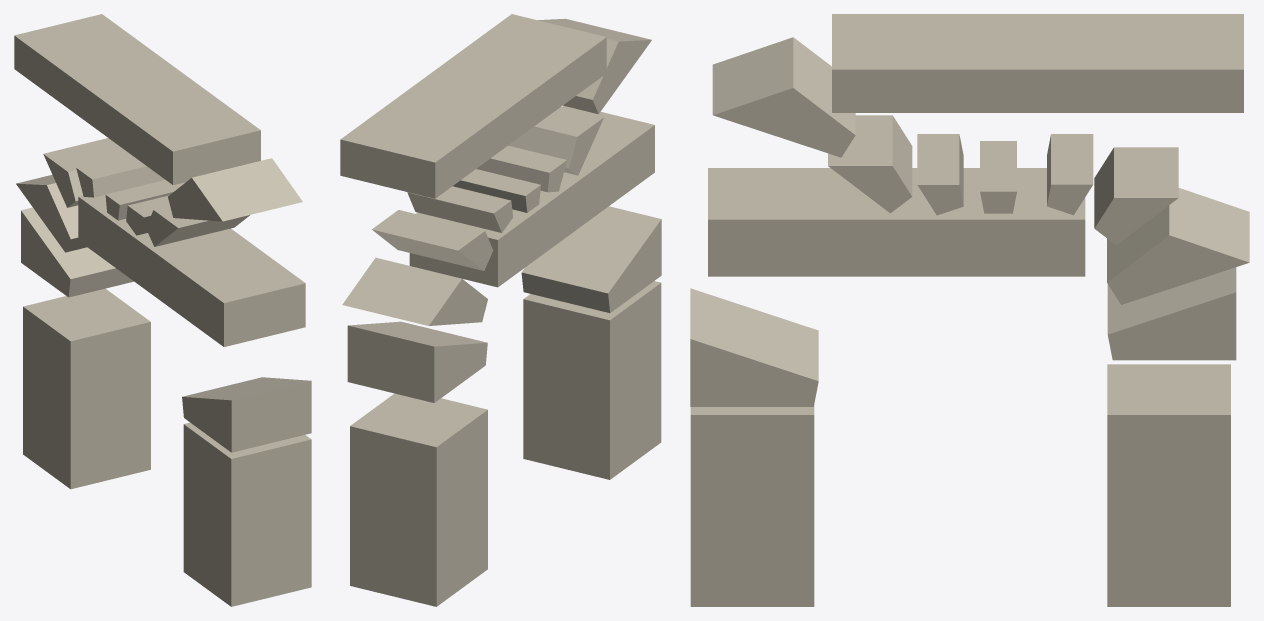
3 renders of one model, left to right at view 1: azimuth 30°, elevation 25°; view 2: azimuth 150°, elevation 25°; view 3: azimuth 270°, elevation 25°, orthographic. The views are drawn at different scales.
Parts seen in each view (by area): view 1: part1, part11, part0, part12, part10, part9, part2, part3, part4, part5, part8, part6 (+1 smaller); view 2: part1, part11, part0, part12, part10, part2, part3, part4, part8, part9, part5, part7 (+1 smaller); view 3: part11, part12, part1, part0, part10, part9, part3, part2, part4, part8, part7, part5 (+1 smaller).
Part boxes in pixels (x1,y1,x2,y2): part1: (23, 288, 150, 489); part11: (14, 14, 260, 185); part0: (183, 422, 311, 606); part12: (78, 195, 305, 346); part10: (182, 377, 311, 452); part9: (168, 158, 302, 221); part2: (21, 207, 133, 297); part3: (16, 174, 86, 252); part4: (43, 138, 129, 207); part5: (76, 154, 165, 197); part8: (146, 206, 249, 246); part6: (105, 180, 185, 220); part1: (350, 393, 487, 606); part11: (340, 14, 606, 198); part0: (523, 281, 661, 479); part12: (409, 106, 654, 287); part10: (521, 206, 661, 312); part2: (347, 321, 487, 402); part3: (342, 257, 487, 325); part4: (372, 210, 493, 270); part8: (508, 106, 603, 175); part9: (538, 18, 651, 114); part5: (407, 186, 512, 232); part7: (476, 145, 566, 192); part11: (832, 14, 1243, 112); part12: (708, 168, 1085, 276); part1: (1107, 364, 1230, 606); part0: (690, 405, 814, 606); part10: (690, 288, 818, 406); part9: (712, 37, 855, 157); part3: (1107, 188, 1249, 304); part2: (1107, 267, 1236, 360); part4: (1094, 147, 1178, 245); part8: (828, 115, 912, 213); part7: (917, 134, 963, 215); part5: (1047, 134, 1093, 215).
Bounding box in the file's own units: 1.15 × 5.21 × 4.89.
